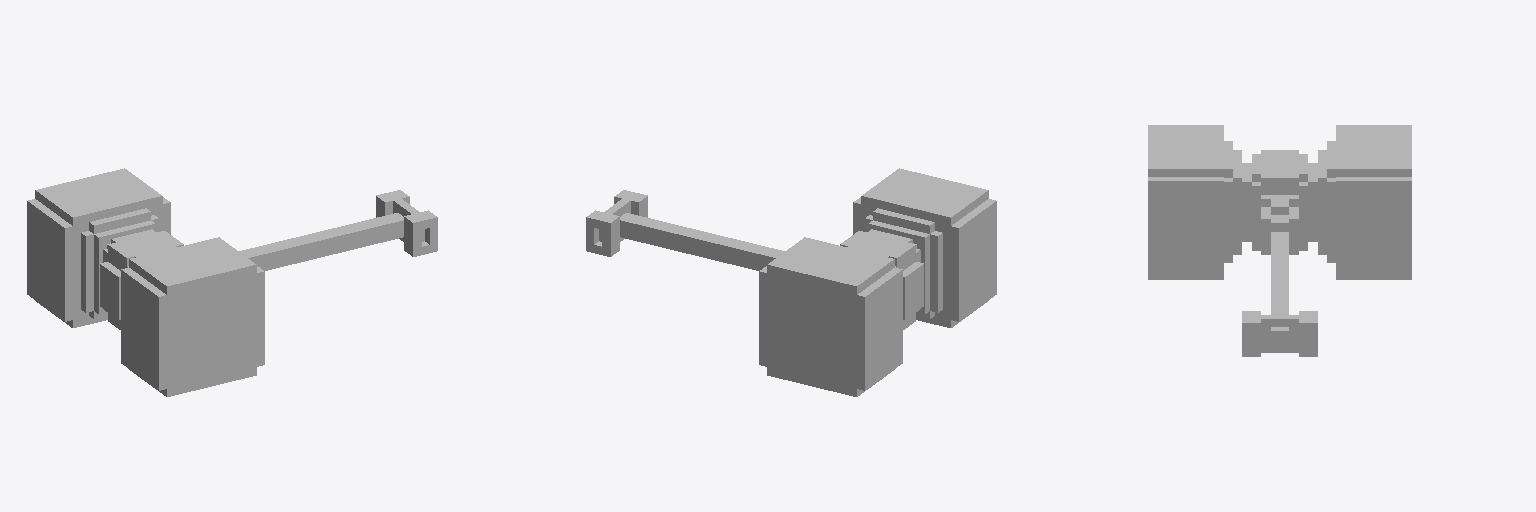
The model's file is hammer.obj.
3 views of the same model, side by side, from view 1: azimuth 30°, elevation 25°; view 2: azimuth 150°, elevation 25°; view 3: azimuth 270°, elevation 25° (orthographic).
Visible parts, largest first — view 1: object 1; view 2: object 1; view 3: object 1.
Part boxes in pixels (x1,y1,x2,y2): object 1: (27,168,437,396); object 1: (586,168,996,396); object 1: (1148,125,1411,356).
Size of the model in its own units: 4 by 1.3 by 2.8.